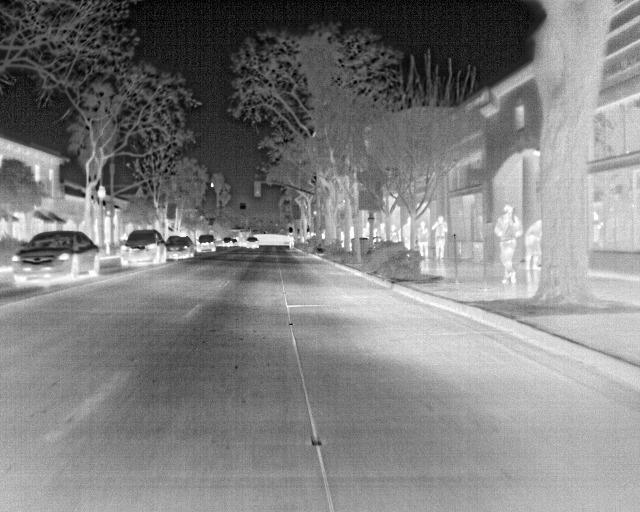bicycle: (8, 229, 101, 285), (116, 227, 169, 270), (164, 234, 197, 261), (200, 235, 218, 255), (220, 236, 236, 248), (244, 236, 259, 248)
empty: (493, 203, 520, 288), (523, 218, 543, 273), (431, 216, 451, 264), (416, 220, 430, 262), (400, 216, 412, 251)
